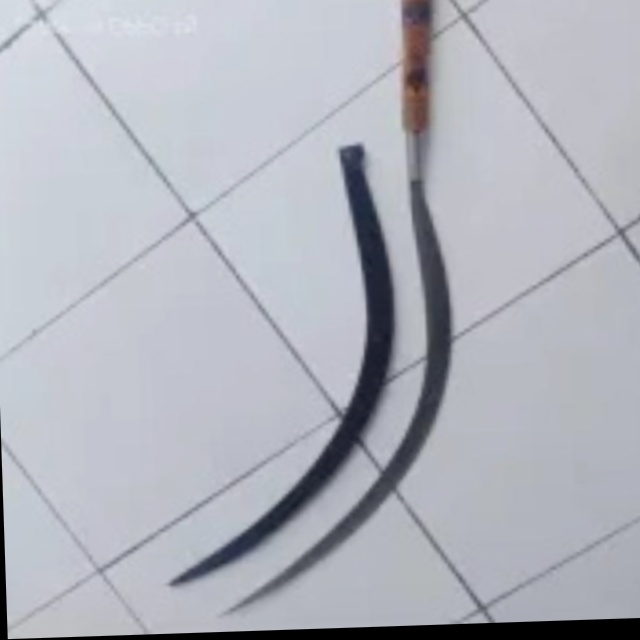Sharp-Object: (199, 0, 479, 627)
